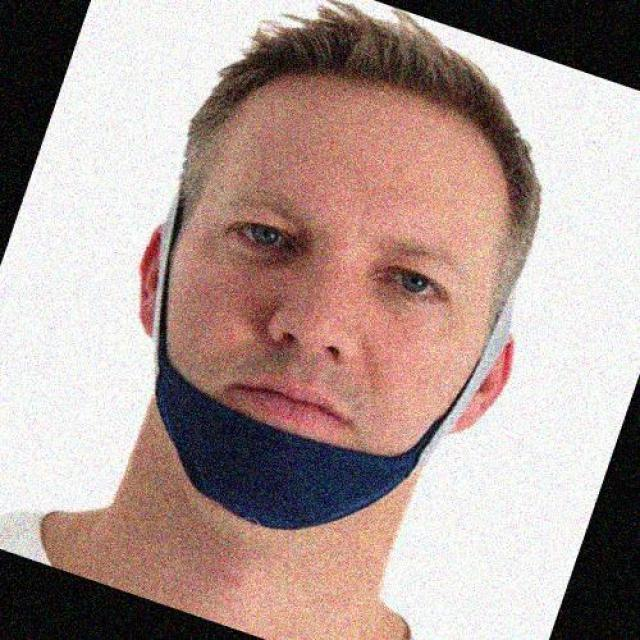hairnet: (115, 114, 558, 503)
